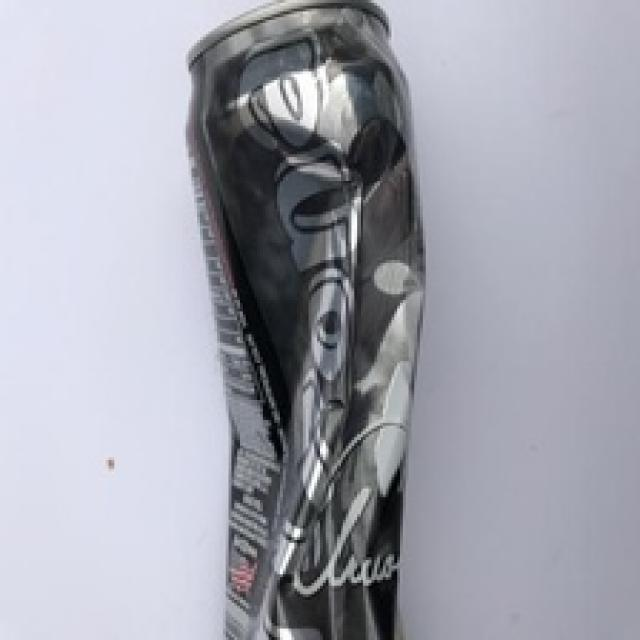recyclable: (185, 0, 428, 640)
